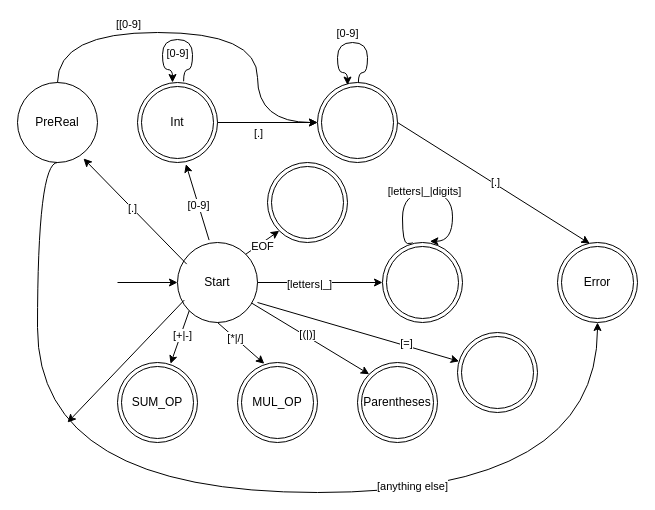
Some shapes in this 655 by 510 pixel diagram are drawn without their labels. Here are the shapes that lost their labels. From the top down, the centre of each, then its label:
At point 357,122: "Real".
At point 307,202: "End".
At point 422,282: "Symbol".
At point 497,372: "Equal".
